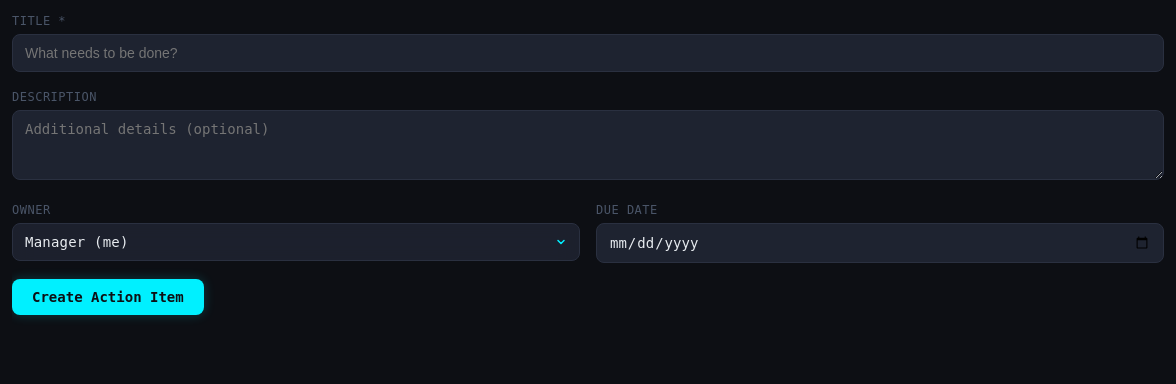
ActionItemForm › shows error when title is empty on submit
Click the button with test id "action-item-submit-btn" at (108, 297), box [12,279,204,315]
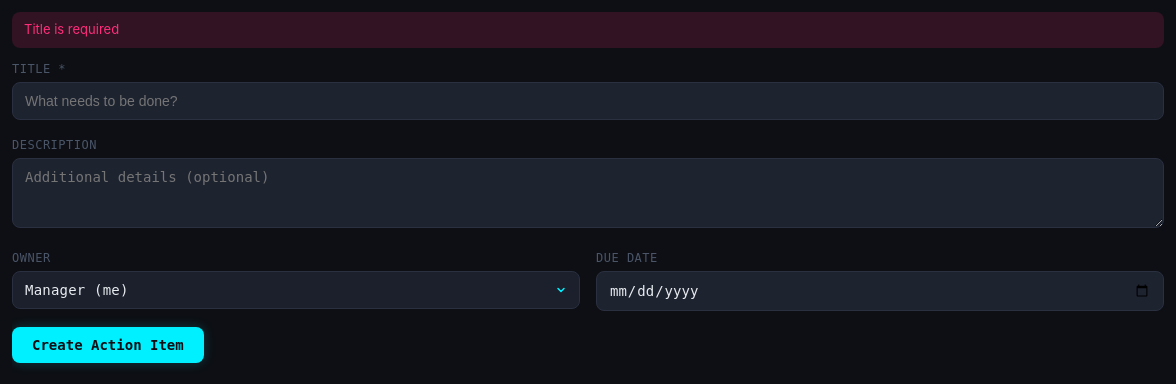
Now the text with test id "form-error" reads "Title is required", box [24,21,119,37]
